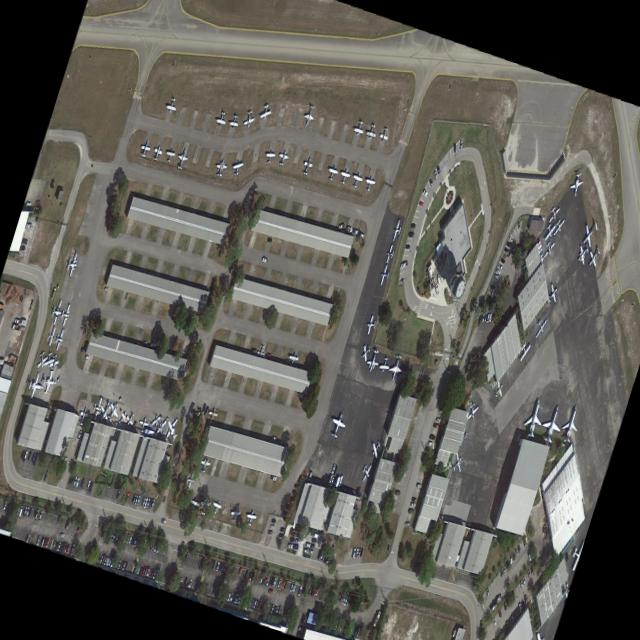plane: (538, 404, 566, 445), (520, 399, 547, 440), (558, 405, 583, 444), (159, 406, 181, 450), (327, 410, 348, 441), (582, 213, 598, 253), (25, 372, 46, 401), (386, 354, 405, 382), (98, 394, 113, 429), (40, 369, 59, 396), (568, 171, 584, 201), (586, 242, 601, 274), (533, 313, 548, 341), (65, 250, 80, 278), (106, 397, 120, 427), (576, 239, 589, 271), (364, 350, 381, 374), (49, 299, 64, 326), (359, 459, 373, 486), (451, 448, 463, 479), (546, 279, 558, 309), (175, 147, 190, 171), (301, 104, 316, 128), (154, 415, 167, 442), (58, 302, 72, 327), (518, 337, 531, 363), (90, 396, 104, 420), (552, 213, 565, 238), (544, 217, 556, 244), (492, 377, 504, 404), (543, 236, 555, 262), (213, 158, 228, 178), (197, 496, 212, 516), (390, 219, 403, 242), (53, 328, 66, 351), (183, 470, 196, 493), (242, 108, 256, 129), (456, 426, 470, 447), (116, 407, 128, 431), (370, 437, 381, 463), (259, 101, 272, 123), (378, 264, 391, 286), (350, 170, 364, 190), (138, 139, 152, 159), (467, 398, 478, 423), (197, 456, 212, 474), (214, 110, 228, 129), (325, 163, 339, 182), (362, 174, 376, 193), (352, 119, 366, 138), (548, 202, 559, 226), (150, 410, 162, 432), (364, 315, 377, 335), (37, 348, 48, 371), (276, 149, 290, 167), (244, 509, 258, 527), (136, 416, 150, 434), (164, 97, 178, 115), (301, 158, 314, 177), (46, 325, 57, 347), (43, 349, 55, 369), (77, 406, 89, 426), (124, 410, 136, 430), (231, 159, 244, 177), (338, 168, 351, 186), (384, 243, 395, 264), (378, 356, 391, 373), (228, 113, 241, 130), (365, 124, 378, 141), (210, 498, 222, 516), (378, 127, 390, 145), (286, 352, 299, 368), (206, 407, 219, 423), (228, 508, 241, 524), (151, 145, 163, 162), (49, 352, 60, 370), (263, 150, 276, 165), (164, 148, 176, 164), (188, 496, 200, 512), (255, 344, 267, 359), (362, 340, 369, 365), (533, 627, 544, 640)
ship: (345, 225, 353, 234)
small-vehicle: (372, 611, 381, 629), (32, 452, 39, 466), (328, 616, 335, 629), (69, 543, 75, 557), (22, 450, 28, 463), (129, 534, 135, 547), (132, 535, 138, 548), (327, 474, 333, 487), (337, 475, 343, 488), (60, 543, 66, 555), (96, 552, 102, 564), (182, 576, 188, 588), (50, 287, 56, 299), (340, 621, 346, 633), (346, 623, 352, 635), (400, 260, 408, 269), (407, 230, 415, 239), (193, 580, 199, 592), (233, 592, 239, 604), (342, 595, 348, 607), (260, 573, 266, 585), (319, 547, 325, 559), (325, 552, 331, 564), (523, 593, 528, 607), (72, 476, 78, 487), (140, 497, 146, 508), (147, 498, 153, 509), (116, 559, 122, 570), (333, 619, 339, 630), (342, 623, 348, 634), (256, 599, 262, 610), (207, 559, 213, 570), (288, 582, 294, 593), (65, 518, 70, 531), (529, 564, 534, 577), (76, 430, 82, 440), (124, 492, 129, 504), (26, 451, 32, 461), (135, 536, 140, 548), (56, 541, 61, 553), (100, 555, 106, 565), (177, 578, 183, 588), (336, 620, 342, 630), (504, 619, 509, 631), (45, 537, 50, 549), (54, 541, 59, 553), (422, 188, 428, 198), (354, 548, 359, 560), (297, 585, 302, 597), (210, 559, 215, 571), (217, 561, 222, 573), (201, 403, 206, 415), (258, 574, 264, 584), (310, 585, 315, 597), (312, 586, 317, 598), (269, 576, 274, 588), (540, 252, 544, 266), (79, 346, 86, 354), (159, 517, 166, 525), (21, 237, 28, 245), (19, 244, 26, 252), (393, 489, 401, 496), (407, 507, 414, 515), (410, 495, 417, 503), (428, 433, 435, 441), (261, 256, 268, 264), (338, 222, 345, 230), (352, 227, 359, 235), (43, 471, 48, 482), (75, 477, 80, 488), (79, 478, 84, 489), (86, 480, 91, 491), (88, 481, 93, 492), (115, 490, 120, 501), (2, 500, 7, 511), (16, 505, 21, 516), (18, 506, 23, 517), (23, 506, 28, 517), (111, 531, 116, 542), (122, 533, 127, 544), (125, 534, 130, 545), (127, 534, 132, 545), (151, 540, 156, 551), (156, 542, 161, 553), (141, 566, 146, 577), (150, 568, 155, 579), (114, 531, 119, 542), (109, 530, 114, 541), (150, 499, 155, 510), (58, 542, 63, 553), (63, 543, 68, 554), (65, 544, 70, 555), (107, 556, 112, 567), (477, 315, 482, 326), (485, 313, 490, 324), (351, 548, 356, 559), (338, 621, 343, 632), (42, 538, 47, 549), (433, 170, 438, 181), (345, 596, 350, 607), (252, 598, 257, 609), (248, 570, 253, 581), (229, 591, 234, 602), (250, 597, 255, 608), (267, 603, 272, 614), (269, 604, 274, 615), (276, 606, 281, 617), (215, 562, 220, 573), (219, 562, 224, 573), (203, 405, 208, 416), (250, 571, 255, 582), (322, 550, 327, 561), (329, 477, 334, 488), (307, 586, 312, 597), (337, 593, 342, 604), (341, 593, 346, 604), (265, 576, 270, 587), (267, 576, 272, 587), (272, 577, 277, 588), (518, 602, 522, 615), (452, 141, 456, 154), (70, 475, 75, 485), (68, 475, 73, 485), (131, 494, 136, 504), (133, 495, 138, 505), (136, 495, 141, 505), (31, 452, 36, 462), (20, 450, 25, 460), (25, 507, 30, 517), (27, 508, 32, 518), (34, 510, 39, 520), (143, 498, 148, 508), (145, 499, 150, 509), (123, 562, 128, 572), (138, 566, 143, 576), (143, 567, 148, 577), (147, 568, 152, 578), (152, 570, 157, 580), (154, 570, 159, 580), (187, 579, 192, 589), (490, 312, 495, 322), (355, 627, 360, 637), (40, 538, 45, 548), (428, 177, 433, 187), (237, 567, 242, 577), (254, 600, 259, 610), (272, 605, 277, 615), (274, 606, 279, 616), (307, 472, 312, 482), (330, 464, 335, 474), (339, 594, 344, 604), (263, 576, 268, 586), (276, 578, 281, 588), (14, 318, 21, 325), (415, 481, 422, 488), (432, 422, 439, 429), (435, 416, 442, 423), (266, 236, 273, 243), (358, 232, 365, 239), (511, 590, 515, 602), (489, 283, 495, 291), (349, 624, 353, 636), (564, 551, 568, 563), (436, 164, 440, 176), (291, 489, 297, 497), (311, 536, 317, 544), (38, 511, 43, 520), (121, 562, 126, 571), (98, 556, 103, 565), (102, 556, 107, 565), (109, 558, 114, 567), (506, 240, 511, 249), (353, 627, 358, 636), (351, 627, 356, 636), (226, 592, 231, 601), (244, 570, 249, 579), (265, 604, 270, 613), (224, 592, 229, 601), (314, 587, 319, 596), (154, 541, 158, 552), (359, 547, 363, 558), (516, 220, 520, 231), (522, 537, 526, 548), (527, 551, 531, 562), (519, 579, 523, 590), (502, 565, 506, 576), (485, 587, 489, 598), (499, 568, 503, 579), (292, 582, 296, 593), (427, 440, 433, 447), (404, 243, 410, 250), (410, 222, 416, 229), (250, 348, 257, 354), (265, 352, 272, 358), (297, 392, 303, 399), (270, 518, 276, 525), (303, 548, 309, 555), (267, 588, 273, 595), (279, 526, 285, 533), (278, 532, 284, 539), (294, 538, 300, 545), (292, 543, 298, 550), (308, 530, 314, 537), (312, 533, 319, 539), (136, 565, 140, 575), (146, 567, 150, 577), (105, 556, 109, 566), (488, 313, 492, 323), (481, 314, 485, 324), (483, 313, 487, 323), (495, 268, 500, 276), (498, 263, 503, 271), (500, 257, 505, 265), (508, 236, 513, 244), (514, 548, 518, 558), (503, 602, 507, 612), (510, 614, 514, 624), (36, 536, 40, 546), (511, 551, 515, 561), (492, 617, 496, 627), (237, 594, 241, 604), (248, 597, 252, 607), (231, 566, 235, 576), (317, 550, 321, 560), (281, 580, 285, 590), (332, 545, 335, 558), (150, 342, 156, 348), (119, 561, 123, 570), (357, 548, 361, 557), (404, 521, 410, 527), (521, 577, 525, 586), (25, 535, 29, 544), (459, 139, 462, 151), (267, 529, 273, 535), (270, 475, 276, 481), (309, 543, 315, 549), (293, 483, 299, 489), (289, 537, 295, 543), (25, 223, 32, 228), (488, 289, 493, 296), (493, 273, 498, 280), (399, 278, 404, 285), (418, 200, 423, 207), (297, 626, 302, 633), (271, 435, 276, 442), (517, 544, 520, 555), (435, 283, 438, 294), (437, 274, 440, 285), (283, 580, 287, 588), (62, 457, 67, 463), (84, 355, 89, 361), (141, 341, 147, 346), (59, 533, 64, 539), (409, 502, 415, 507), (438, 409, 444, 414), (270, 524, 275, 530), (308, 548, 313, 554), (287, 543, 292, 549), (305, 542, 310, 548), (504, 247, 508, 254), (527, 569, 530, 578), (498, 609, 501, 618), (26, 201, 31, 206)
